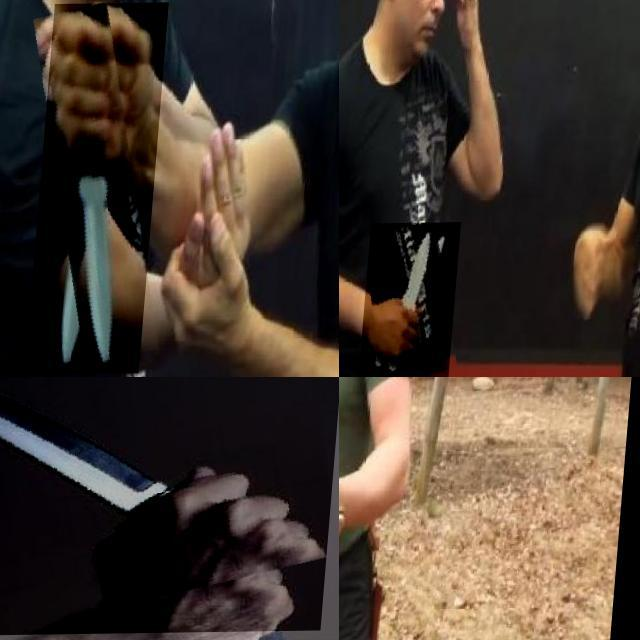-: (0, 377, 339, 637), (35, 3, 173, 376), (366, 222, 467, 377), (339, 406, 381, 534)
